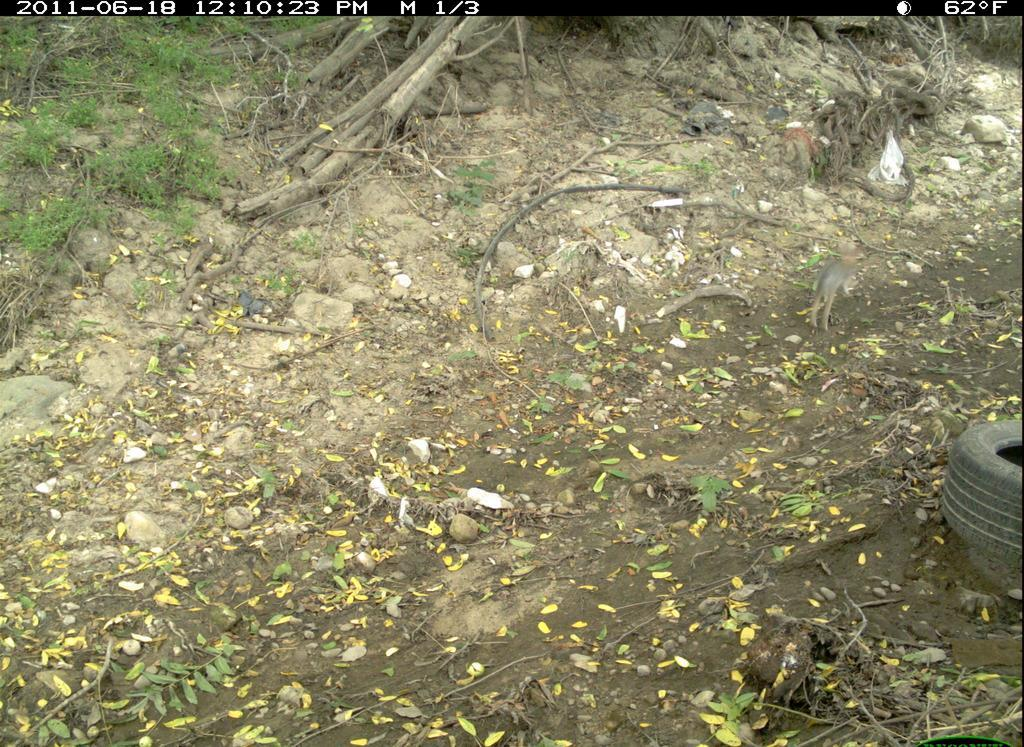rabbit: (797, 236, 877, 336)
